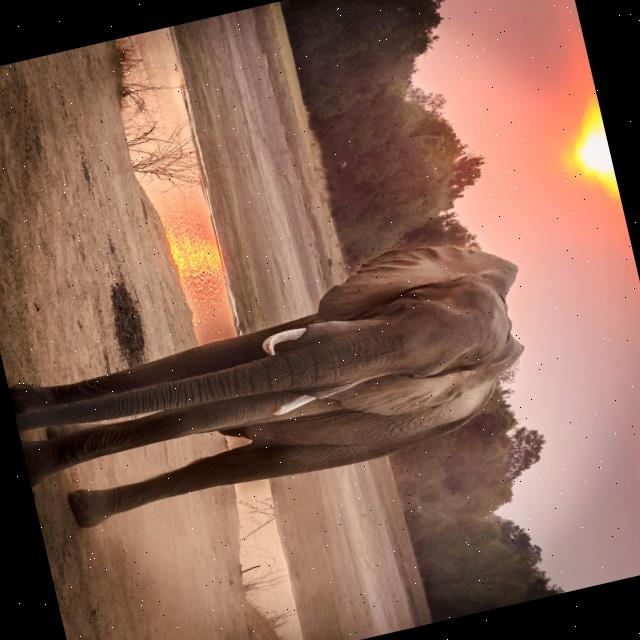Elephant: (0, 222, 557, 541)
